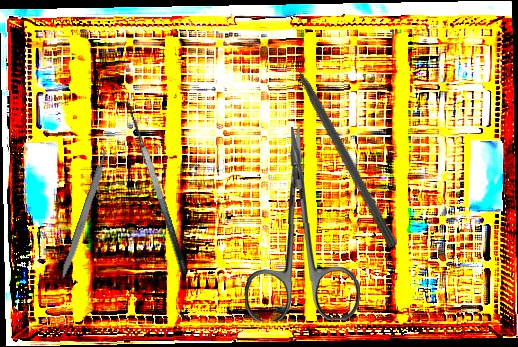Iris Scissors: (241, 125, 361, 322)
Pusher: (282, 42, 400, 249)
Scalpel Handle: (58, 149, 112, 282)
Spatula Surgical: (112, 94, 191, 281)
